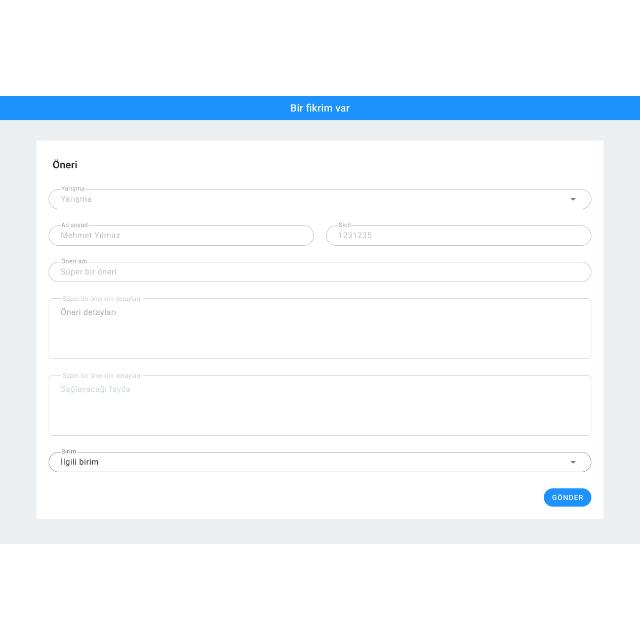QLabel: (288, 102, 352, 114), (50, 157, 80, 171), (550, 494, 584, 504)
VAppBar: (0, 96, 640, 120)
VBtn: (544, 488, 592, 508)
VCard: (36, 139, 604, 521)
VCombobox: (49, 186, 591, 210), (50, 449, 592, 473)
VTextField: (49, 259, 591, 283), (48, 224, 314, 246), (326, 224, 590, 246)
VTextarea: (47, 372, 591, 438), (48, 296, 592, 360)
